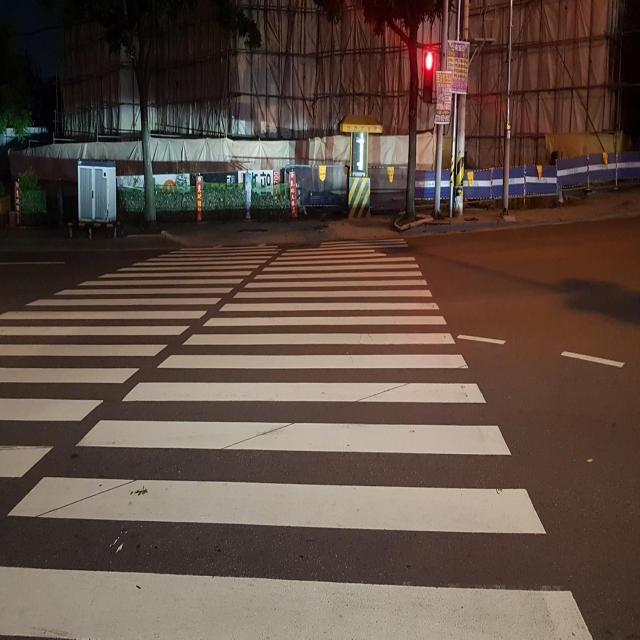횡단보도: (0, 240, 592, 640)
